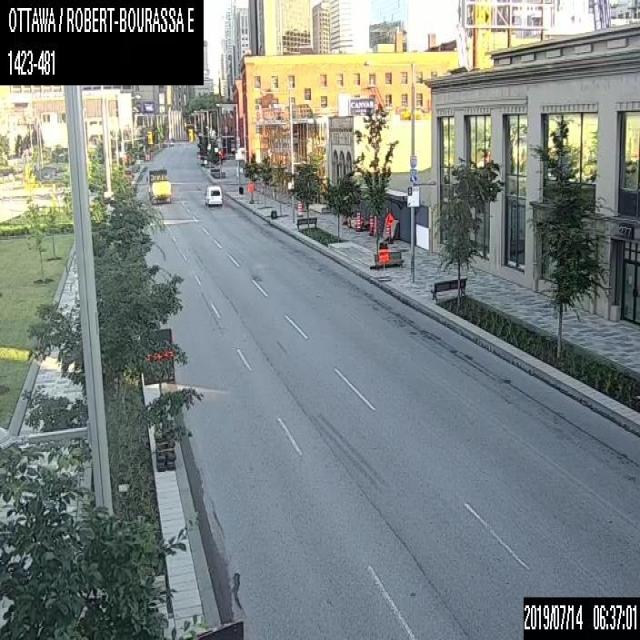construction: (140, 328, 174, 471), (378, 248, 389, 280), (386, 212, 394, 242), (368, 212, 374, 236), (247, 182, 253, 202), (355, 210, 360, 230), (296, 200, 302, 215), (385, 223, 389, 240)
vehicle: (147, 168, 171, 203), (204, 184, 222, 204)
